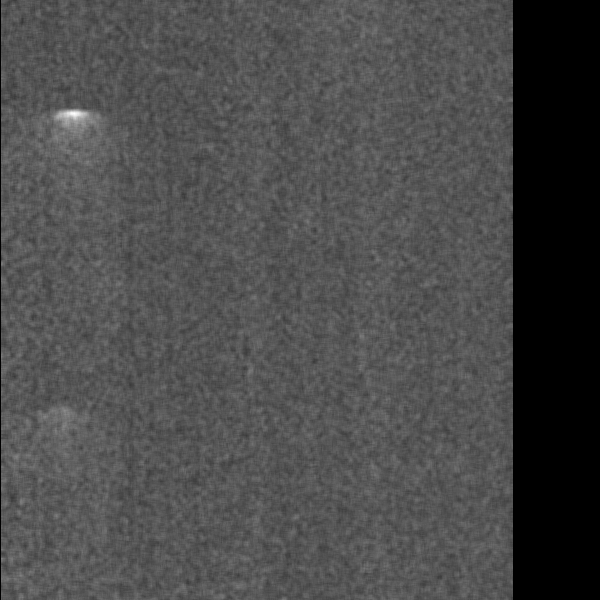spark: (48, 398, 80, 481), (46, 102, 99, 144)
